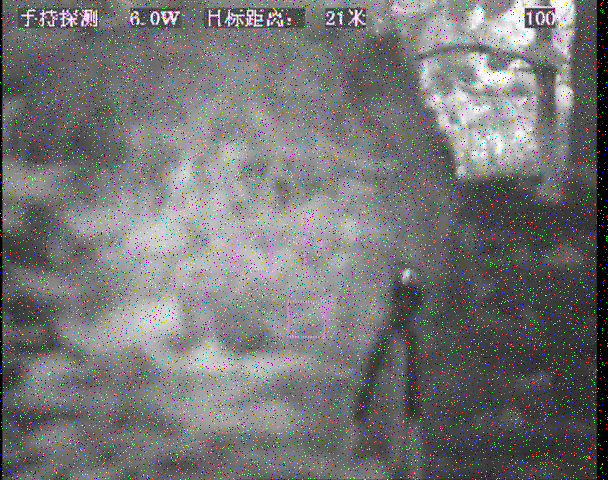my: (396, 268, 416, 287)
